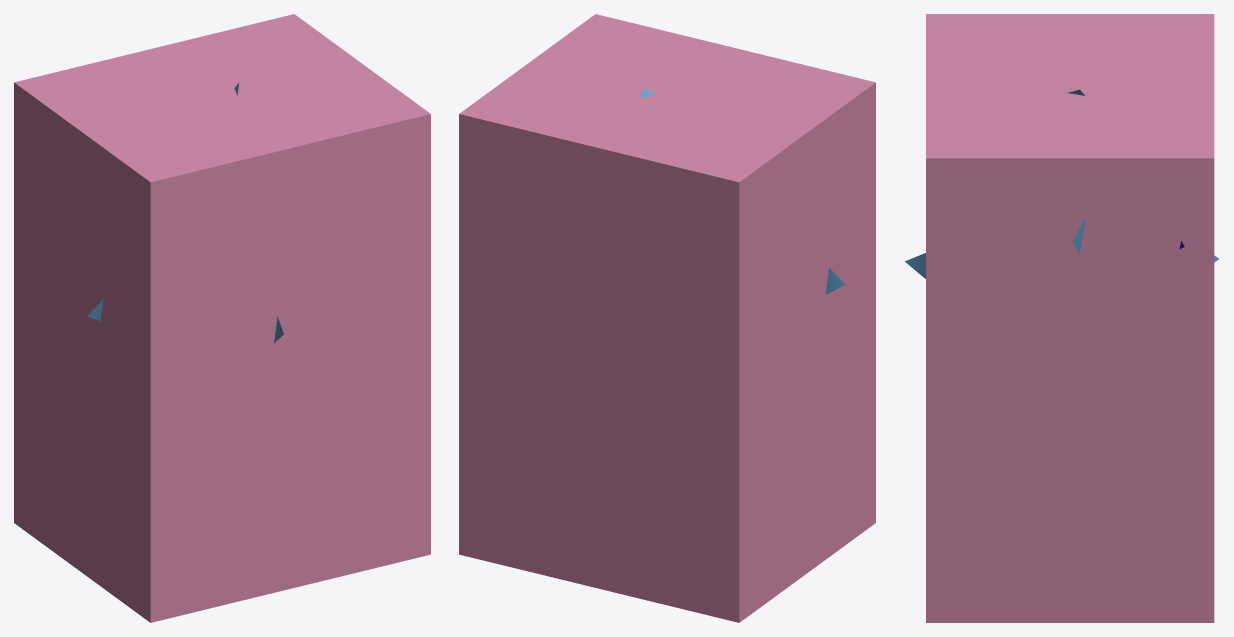
Rendered from tree_aspen_small_b.dae.
3 views of the same model, side by side, from view 1: azimuth 30°, elevation 25°; view 2: azimuth 150°, elevation 25°; view 3: azimuth 270°, elevation 25° (orthographic). The views are drawn at different scales.
Visible parts, largest first — view 1: Untitled; view 2: Untitled; view 3: Untitled, tree_oak_bush_a250.
Part boxes in pixels (box(x1,y1,x2,y2)): Untitled: box(14, 14, 430, 622); Untitled: box(459, 14, 875, 622); Untitled: box(926, 14, 1214, 622); tree_oak_bush_a250: box(905, 89, 1218, 278).
Bounding box in the file's own units: 4.65 × 3.76 × 6.35.
